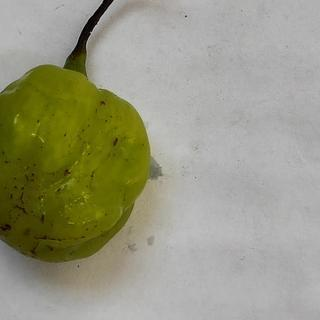Defect: (0, 219, 15, 237)
Fly-bites: (106, 129, 122, 157), (59, 164, 76, 178), (37, 212, 49, 227), (0, 156, 11, 170), (4, 192, 16, 202), (13, 154, 23, 164), (28, 169, 37, 180), (98, 98, 107, 107), (49, 245, 58, 254)
striped: (32, 234, 90, 242), (28, 242, 43, 259), (14, 203, 32, 217), (19, 191, 27, 206)
